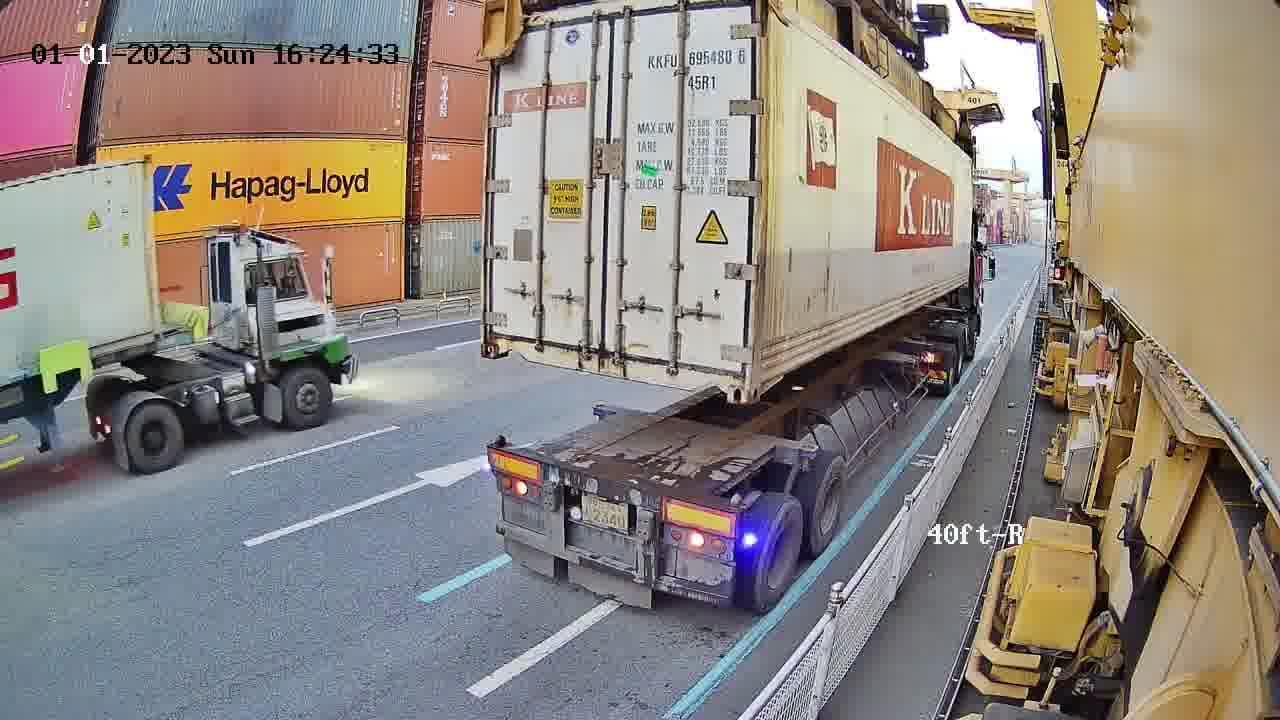Chassis: (484, 449, 741, 539)
Cone: (486, 434, 508, 477), (722, 489, 740, 533)
Hole_L: (748, 343, 780, 405), (479, 319, 518, 359)
Hole_R: (705, 357, 747, 402)
Tire: (754, 505, 805, 606), (812, 460, 845, 547)
